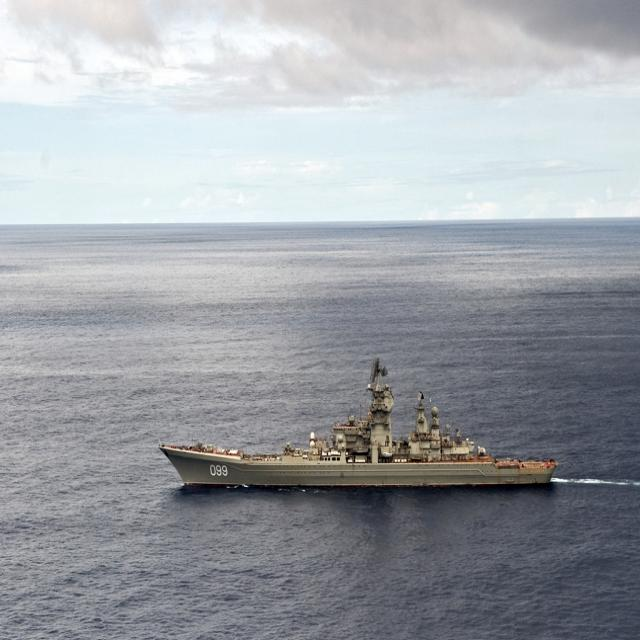navalvessels: (144, 324, 571, 514)
